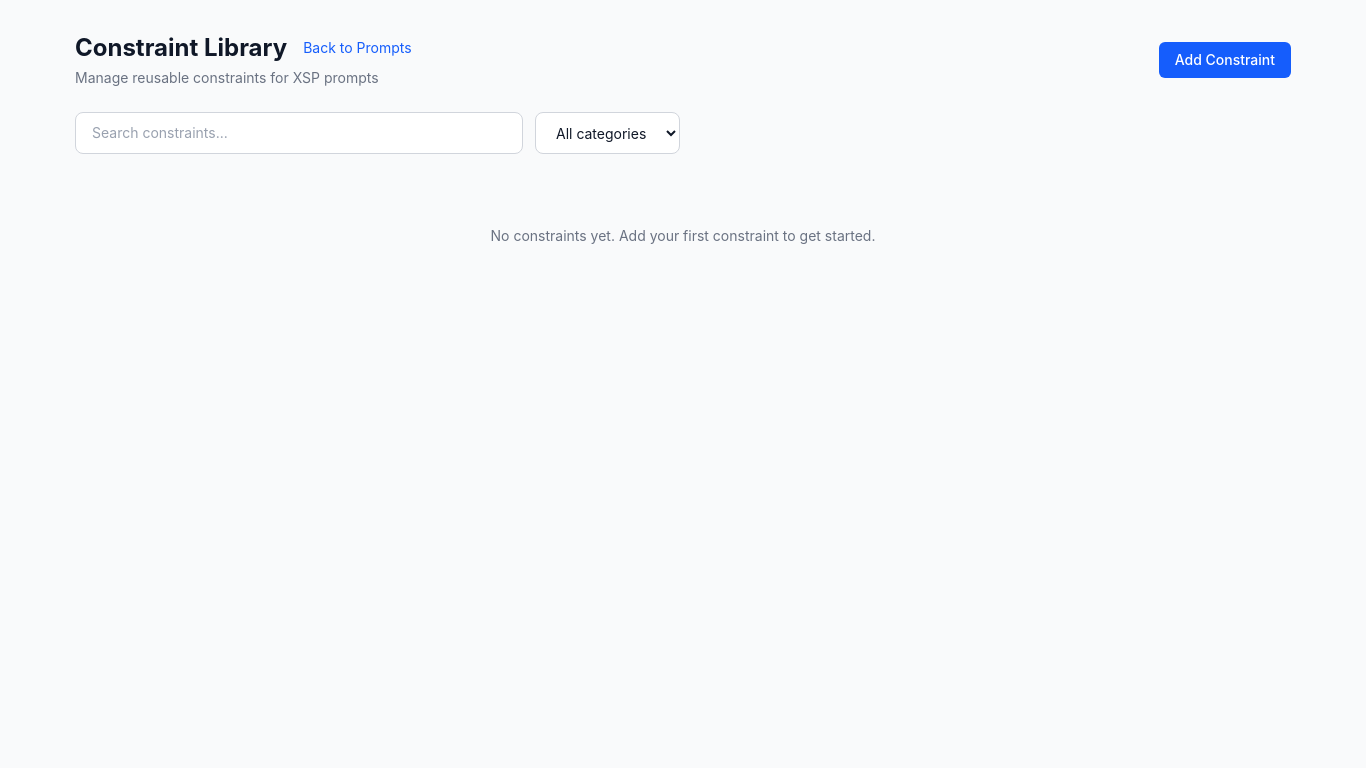
ConstraintLibrary › closes create modal on Cancel
The width and height of the screenshot is (1366, 768).
Click the button "Add Constraint" at (1225, 60), box [1159,42,1291,78]
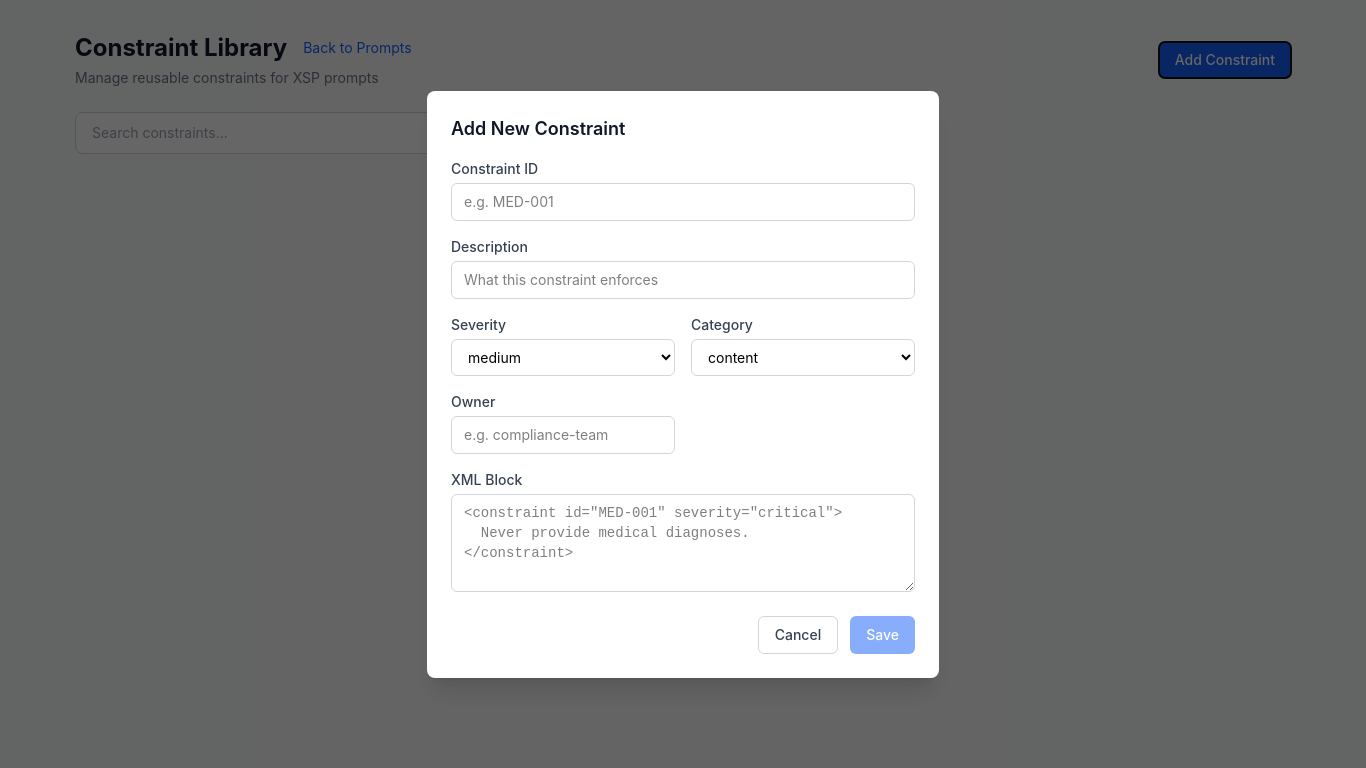
Result: the element with test id "constraint-form-modal" is shown
Click the button "Cancel" at (798, 634), box [758,616,838,654]
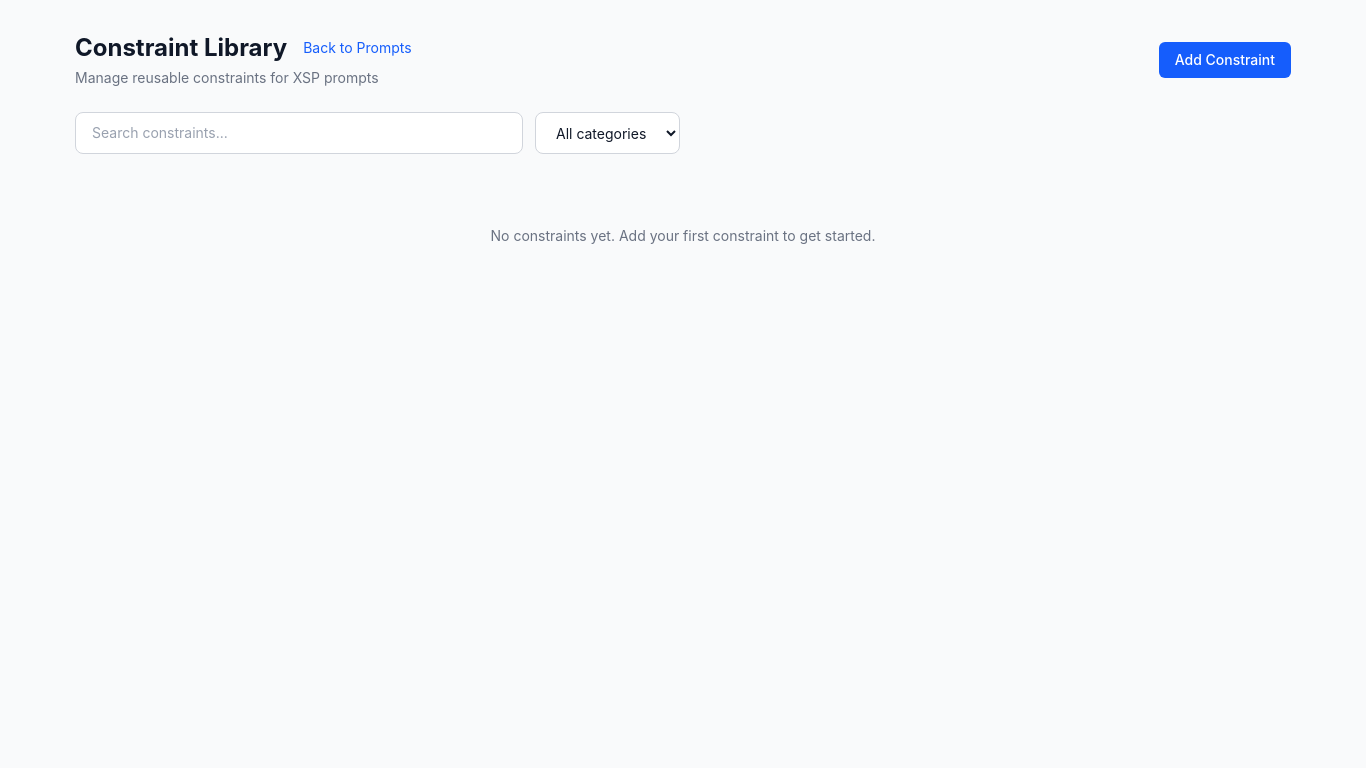
Result: the element with test id "constraint-form-modal" is gone
